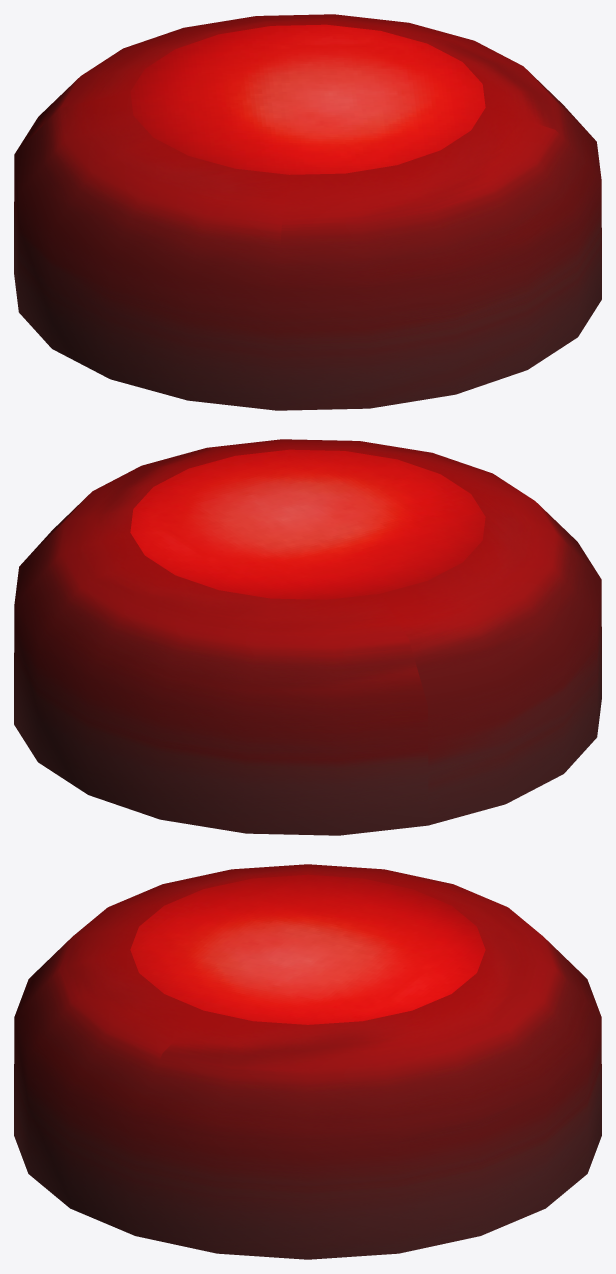
File: F_Button_01.fbx
3 views of the same model, one above another, from view 1: azimuth 30°, elevation 25°; view 2: azimuth 150°, elevation 25°; view 3: azimuth 270°, elevation 25° (orthographic).
Visible parts, largest first — view 1: F_Button_01; view 2: F_Button_01; view 3: F_Button_01.
Part boxes in pixels (x1=…): F_Button_01: x1=14, y1=14, x2=601, y2=410; F_Button_01: x1=14, y1=439, x2=601, y2=835; F_Button_01: x1=14, y1=864, x2=601, y2=1259.
Bounding box in the file's own units: 39.4 × 13.73 × 39.4.
Materials: 1 (1 with a texture image).
